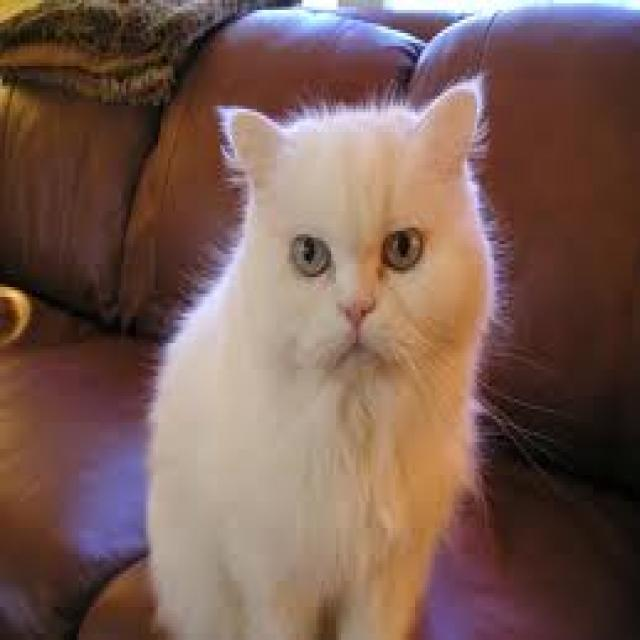Persian: (219, 74, 496, 398)
